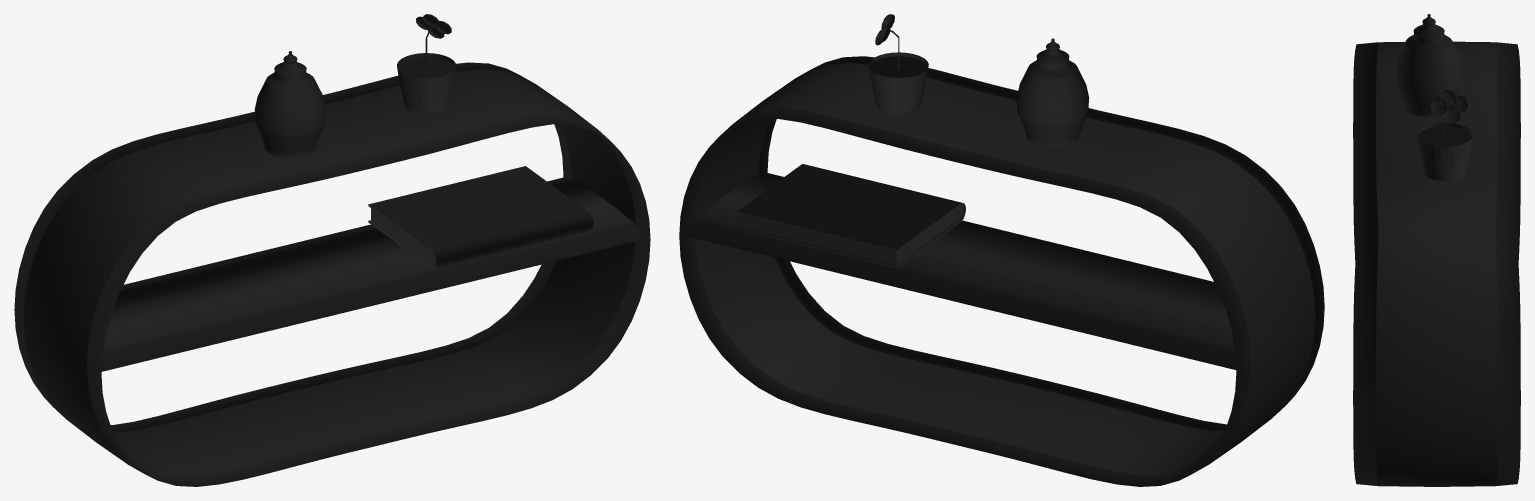
The model's file is stol.obj.
3 renders of one model, left to right at view 1: azimuth 30°, elevation 25°; view 2: azimuth 150°, elevation 25°; view 3: azimuth 270°, elevation 25°, orthographic. The views are drawn at different scales.
Visible parts, largest first — view 1: obj1, obj2, obj5, obj3; view 2: obj1, obj2, obj5, obj3; view 3: obj1, obj5, obj3, obj4.
Part boxes in pixels (x1=…): obj1: x1=14, y1=62, x2=650, y2=486; obj2: x1=368, y1=166, x2=593, y2=269; obj5: x1=254, y1=51, x2=326, y2=157; obj3: x1=397, y1=53, x2=455, y2=114; obj1: x1=679, y1=56, x2=1324, y2=486; obj2: x1=737, y1=164, x2=965, y2=268; obj5: x1=1016, y1=38, x2=1088, y2=146; obj3: x1=868, y1=52, x2=928, y2=114; obj1: x1=1353, y1=41, x2=1520, y2=486; obj5: x1=1394, y1=14, x2=1463, y2=116; obj3: x1=1416, y1=123, x2=1472, y2=181; obj4: x1=1430, y1=89, x2=1468, y2=138.
Bounding box in the file's own units: 1.71 × 1.12 × 0.4658.
